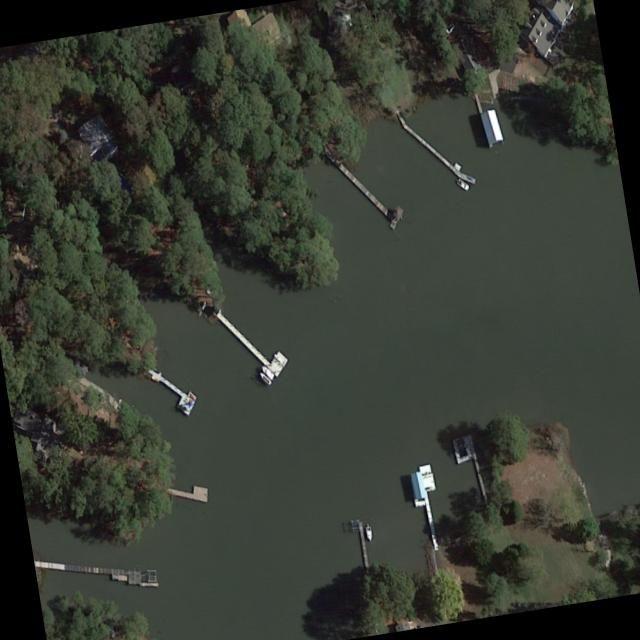ship: (256, 369, 274, 388), (362, 519, 375, 544), (455, 175, 471, 193), (260, 363, 276, 380)
